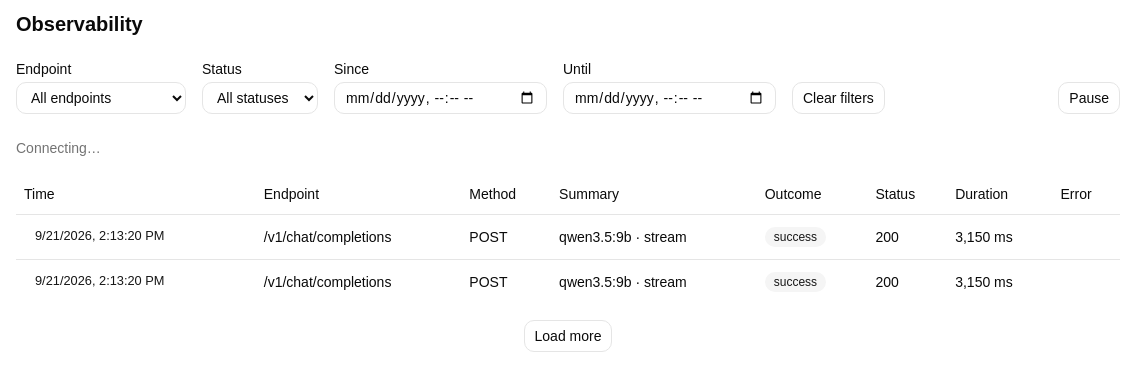
Scenario: load more passes last_id as the after cursor
Click the button "Load more".
click(568, 336)  # box [524, 320, 612, 352]
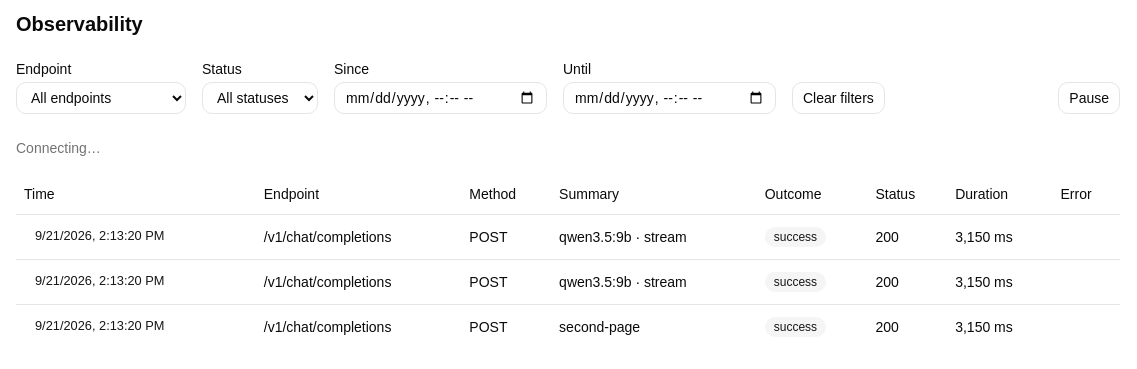
Check: the text "second-page" is shown, box [551, 304, 757, 348]
Check: the button "Load more" is gone
